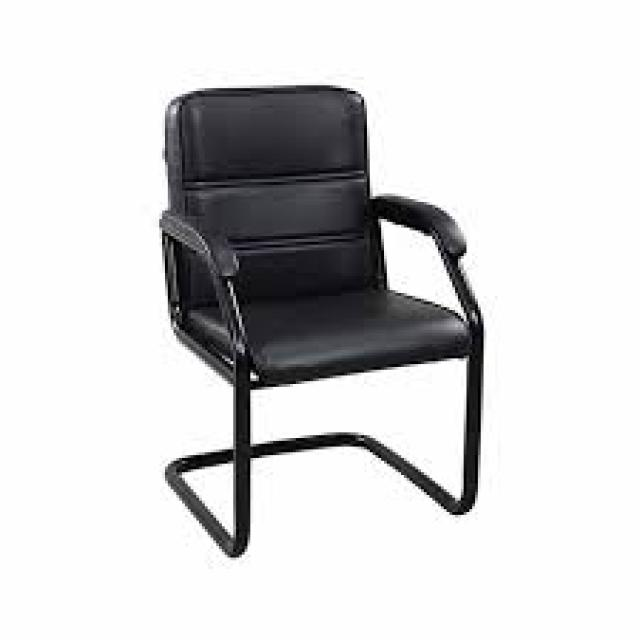chair: (74, 70, 542, 612)
